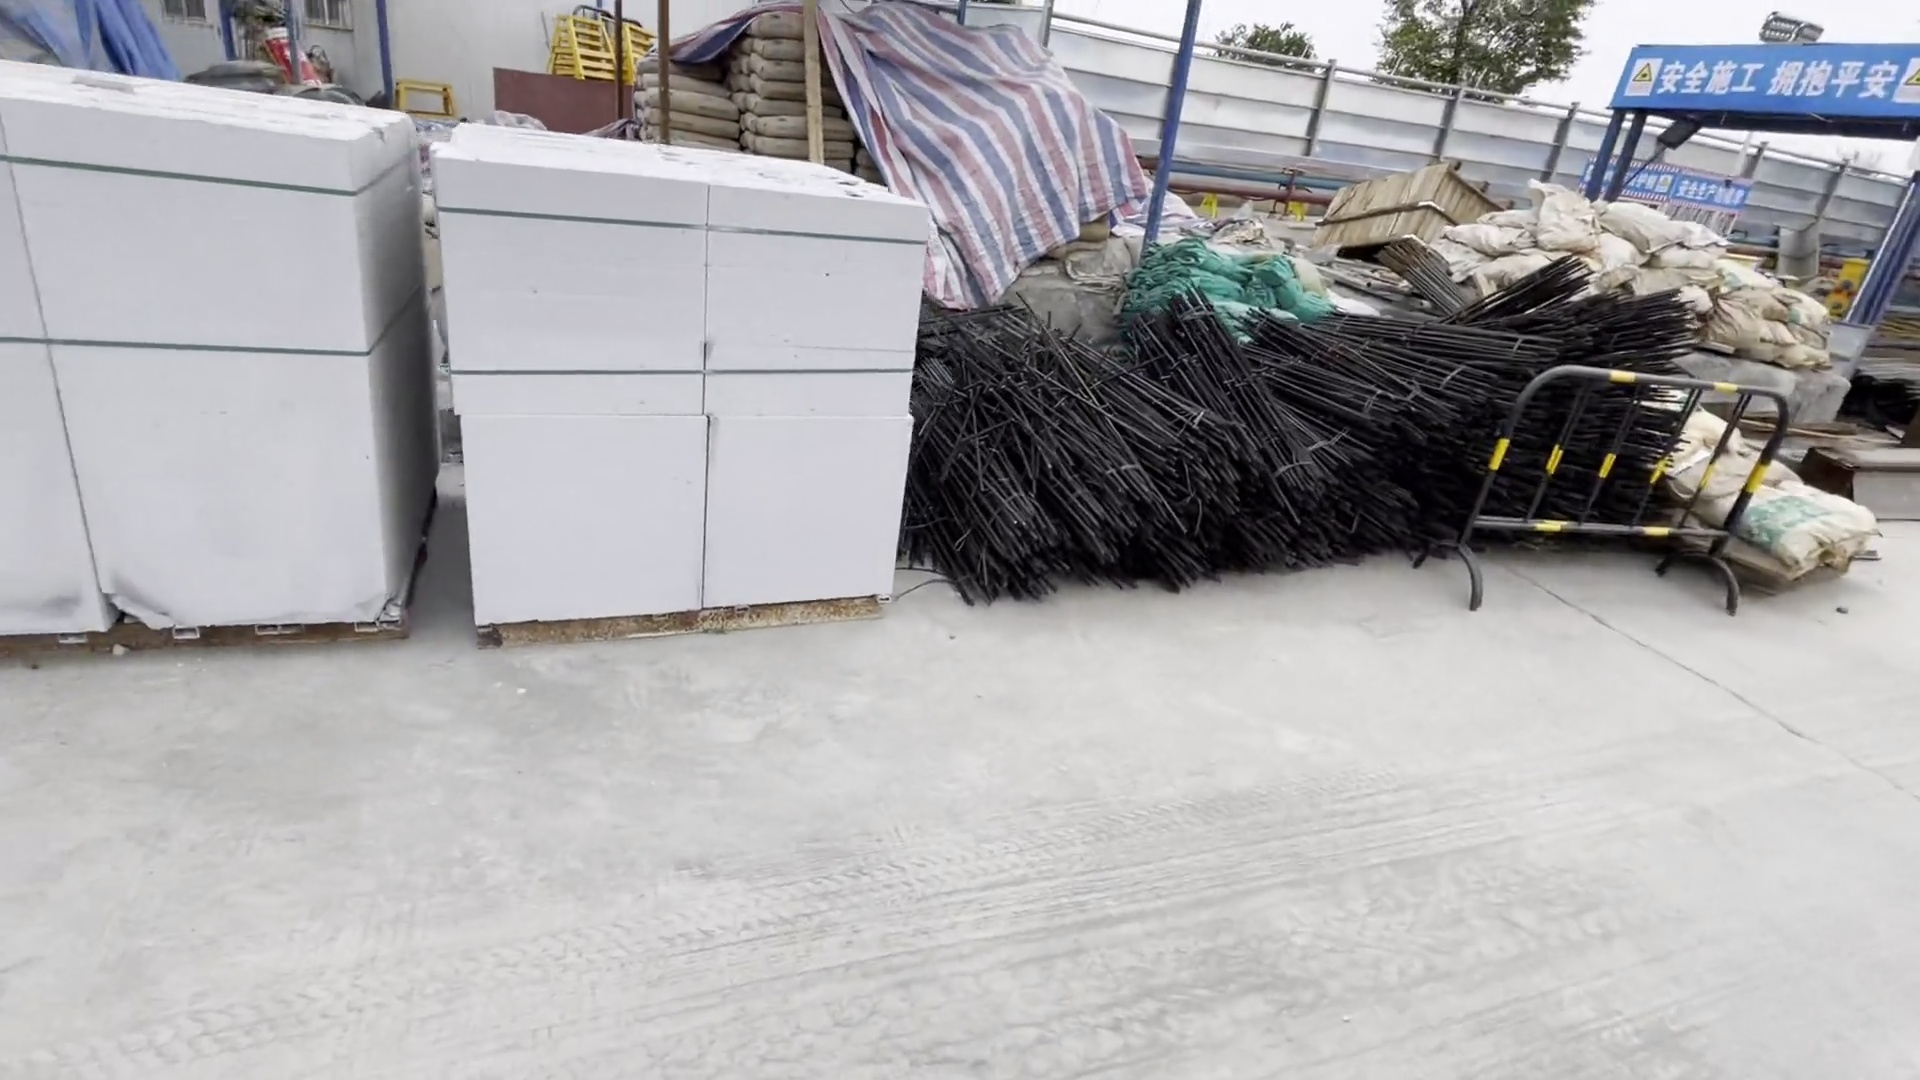brick: (421, 98, 938, 651), (1, 44, 422, 669)
slogan: (1602, 45, 1920, 128), (1592, 157, 1758, 208)
